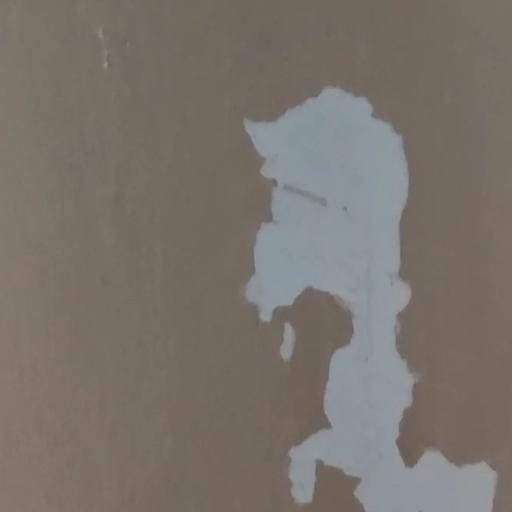peeling: (223, 74, 512, 512)
